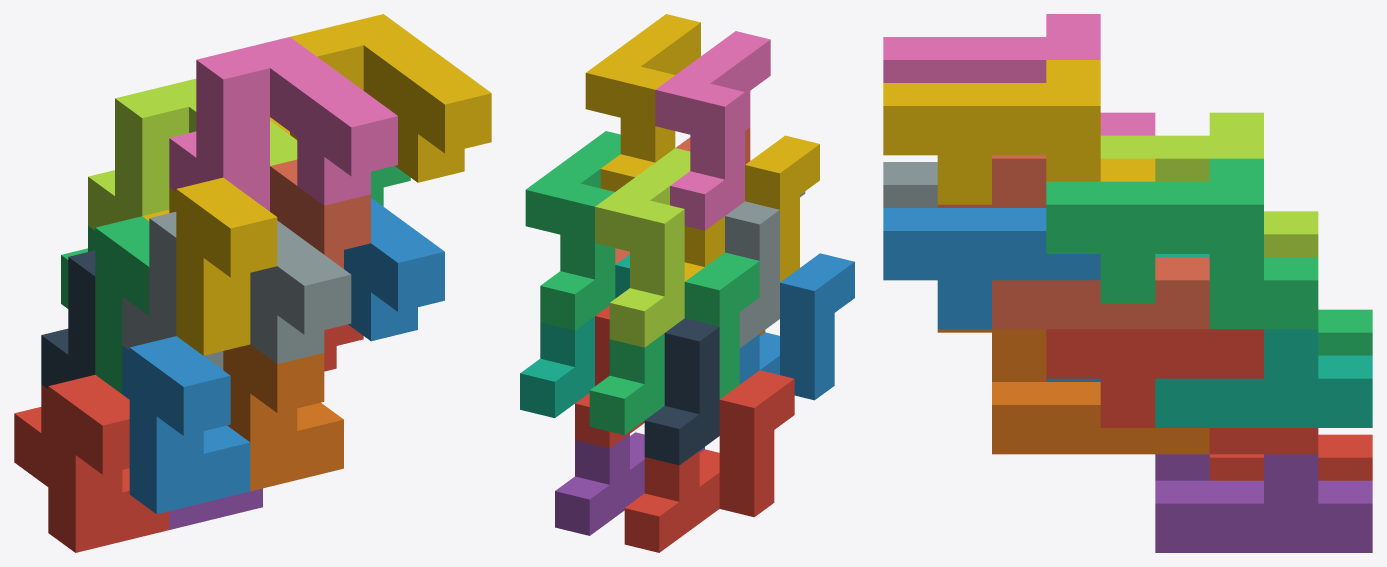
File: tiling.obj
The picture shows the model from 3 angles, left to right: view 1: azimuth 30°, elevation 25°; view 2: azimuth 150°, elevation 25°; view 3: azimuth 270°, elevation 25°; orthographic projection. The views are drawn at different scales.
Parts seen in each view (by area): view 1: copy_2_domain_4, copy_1_domain_2, copy_1_domain_1, copy_2_domain_8, copy_2_domain_2, copy_1_domain_4, copy_1_domain_6, copy_2_domain_3, copy_2_domain_6, copy_1_domain_3, copy_1_domain_8, copy_2_domain_1 (+3 smaller); view 2: copy_1_domain_1, copy_2_domain_4, copy_2_domain_3, copy_2_domain_7, copy_1_domain_3, copy_2_domain_8, copy_1_domain_2, copy_2_domain_1, copy_1_domain_4, copy_1_domain_5, copy_1_domain_7, copy_2_domain_2 (+2 smaller); view 3: copy_2_domain_7, copy_2_domain_8, copy_1_domain_5, copy_2_domain_5, copy_2_domain_6, copy_1_domain_7, copy_1_domain_8, copy_1_domain_6, copy_2_domain_4, copy_2_domain_3, copy_1_domain_1, copy_1_domain_3 (+1 smaller).
Boxes of the visible parts, x1,y1,x2,y2 form: copy_2_domain_4: (169,37,397,211); copy_1_domain_2: (122,336,250,514); copy_1_domain_1: (14,375,169,552); copy_2_domain_8: (270,14,491,182); copy_2_domain_2: (122,212,351,369); copy_1_domain_4: (142,177,277,355); copy_1_domain_6: (223,344,343,491); copy_2_domain_3: (88,78,297,230); copy_2_domain_6: (344,198,444,341); copy_1_domain_3: (61,216,149,393); copy_1_domain_8: (270,159,370,268); copy_2_domain_1: (41,250,95,388); copy_1_domain_1: (624,370,794,552); copy_2_domain_4: (655,31,770,230); copy_2_domain_3: (595,148,690,347); copy_2_domain_7: (525,131,620,330); copy_1_domain_3: (589,252,759,434); copy_2_domain_8: (585,14,700,191); copy_1_domain_2: (739,253,854,400); copy_2_domain_1: (644,318,719,465); copy_1_domain_4: (684,135,819,282); copy_1_domain_5: (555,432,704,535); copy_1_domain_7: (520,254,629,417); copy_2_domain_2: (725,191,805,347); copy_2_domain_7: (1046,158,1318,329); copy_2_domain_8: (883,60,1155,204); copy_1_domain_5: (1155,454,1372,552); copy_2_domain_5: (1046,329,1318,454); copy_2_domain_6: (883,208,1100,329); copy_1_domain_7: (1155,254,1372,427); copy_1_domain_8: (937,155,1209,329); copy_1_domain_6: (937,329,1209,454); copy_2_domain_4: (883,14,1155,135); copy_2_domain_3: (1100,112,1318,257); copy_1_domain_1: (1209,434,1372,480); copy_1_domain_3: (1318,309,1372,355).
Size of the model in its own units: 6 by 10 by 9.
